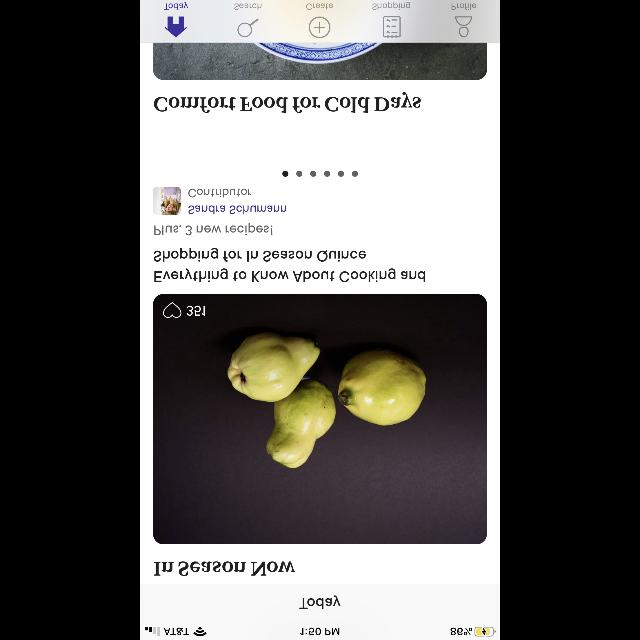icon: (309, 16, 331, 38), (165, 17, 187, 37), (454, 16, 472, 38), (384, 16, 401, 38), (238, 19, 258, 37), (163, 302, 181, 318)
image: (154, 294, 486, 544), (154, 42, 486, 80), (154, 188, 180, 215)
pageindicator: (282, 171, 358, 177)
text: (154, 92, 422, 114), (154, 268, 426, 282), (154, 248, 366, 262), (154, 562, 296, 576), (154, 223, 272, 235), (188, 206, 286, 214), (300, 595, 340, 609), (189, 189, 251, 197), (372, 2, 410, 10), (164, 2, 188, 10), (187, 305, 205, 315), (234, 4, 262, 10), (306, 4, 334, 10), (452, 4, 476, 10)
uppertaskbar: (140, 626, 500, 640)
